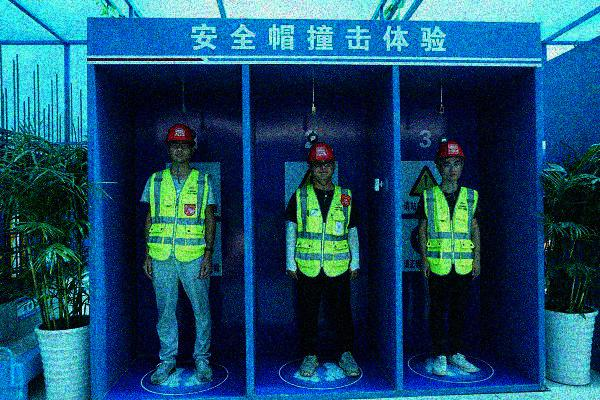helmet: (433, 141, 467, 180), (166, 123, 198, 164), (306, 141, 337, 181)
